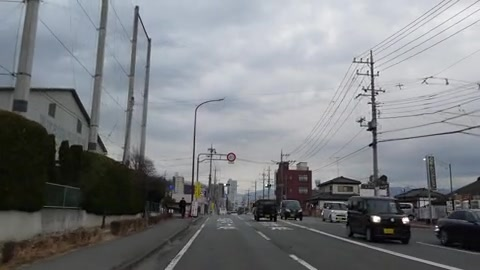traffic_sign: (225, 149, 237, 164)
